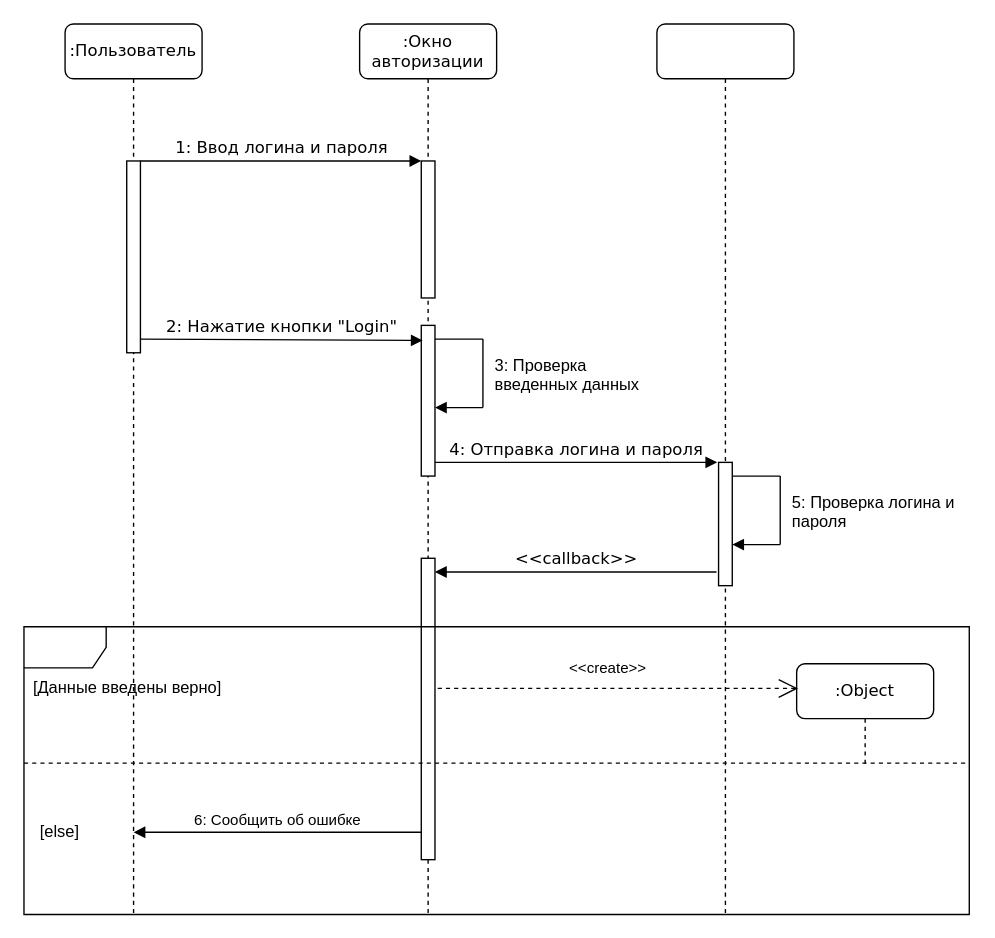
Some shapes in this 995 by 938 pixel diagram are drawn without their labels. Each missing label, with the centre of its shape:
":Сервис аунтефикации" goes at [725,468].
"alt" goes at [496,769].
